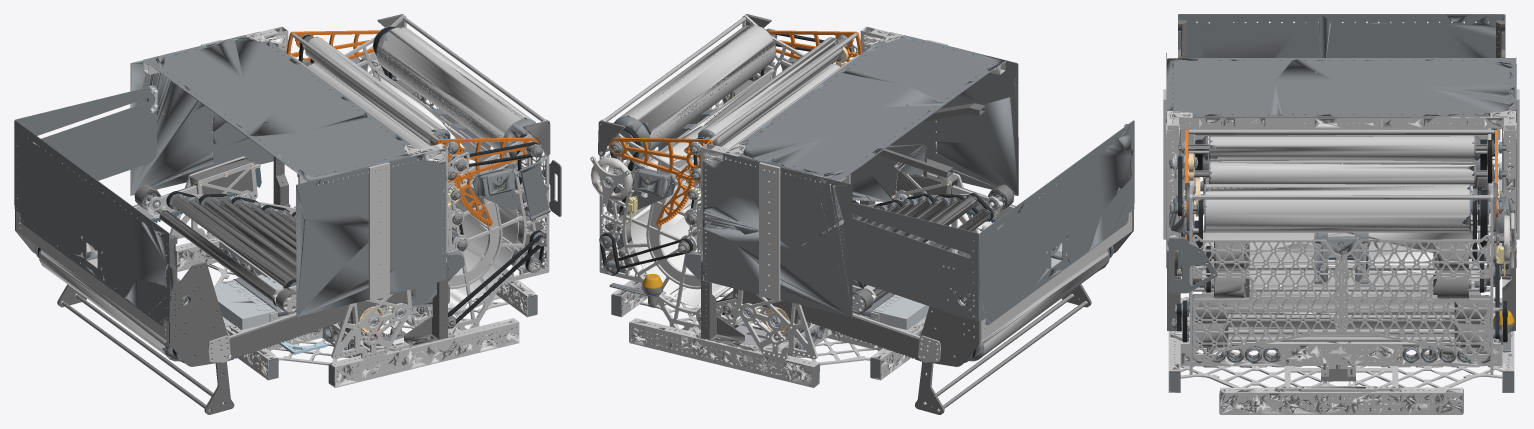
The model's file is rubble-581.glb.
3 renders of one model, left to right at view 1: azimuth 30°, elevation 25°; view 2: azimuth 150°, elevation 25°; view 3: azimuth 270°, elevation 25°, orthographic. The views are drawn at different scales.
Visible parts, largest first — view 1: frame, intake, hood, flywheel; view 2: frame, intake, hood, flywheel; view 3: frame, intake, hood, flywheel.
Part boxes in pixels (x1,y1,x2,y2): frame: (130,14,561,387); intake: (14,85,415,414); hood: (286,30,539,226); flywheel: (373,26,542,161); frame: (590,14,1018,387); intake: (732,103,1134,414); hood: (609,30,862,226); flywheel: (608,24,777,159); frame: (1163,52,1519,414); intake: (1174,14,1511,285); hood: (1169,129,1506,246); flywheel: (1169,184,1503,232).
Size of the model in its own units: 0.9922 by 0.5571 by 0.7461.
